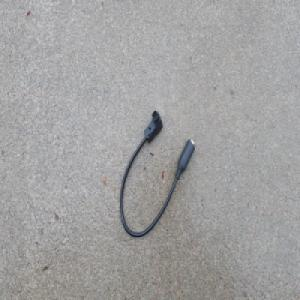Wire: (118, 107, 195, 238)
